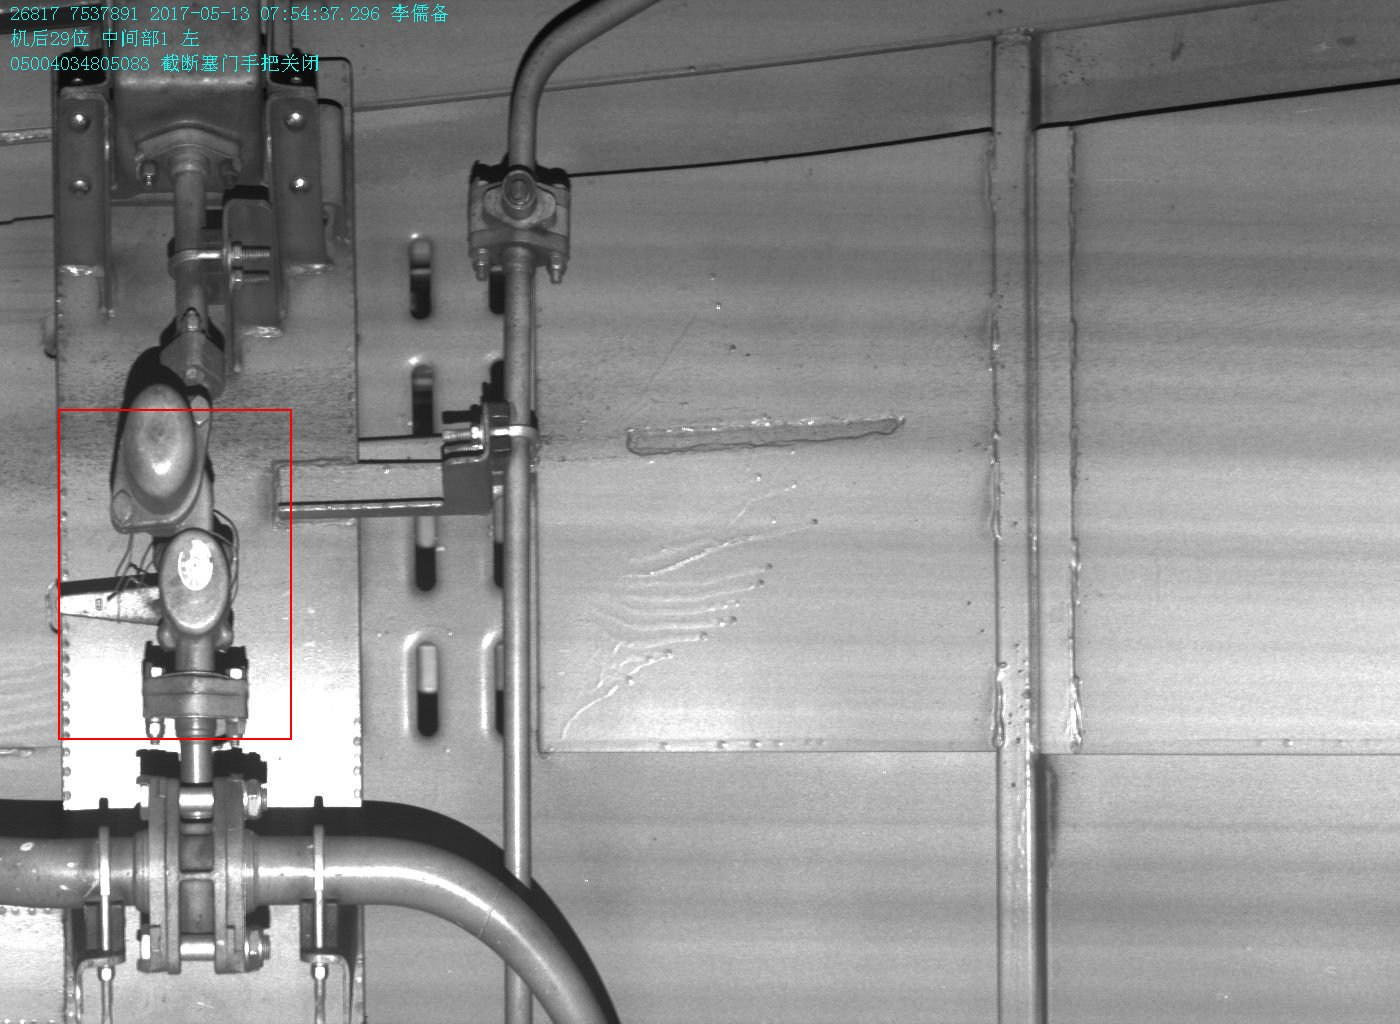truncated plug door handle: (57, 529, 236, 649)
